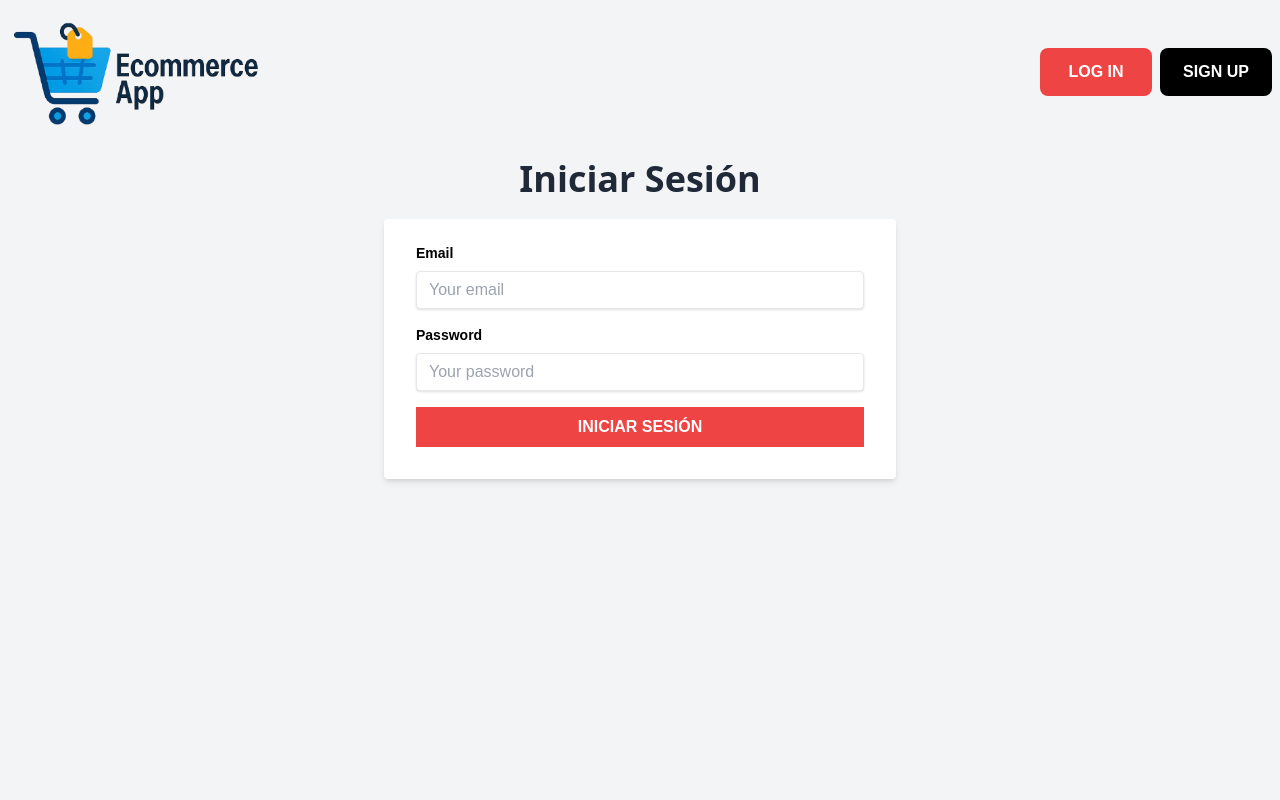
Scenario: <NuevoProducto/> Pruebas para creacion de nuevo producto › <NuevoProducto/> Verificar formulario de nuevoProducto
Type "correo@correo.com" into the field with test id "login-email" at x=640, y=290, box [416, 271, 864, 309]
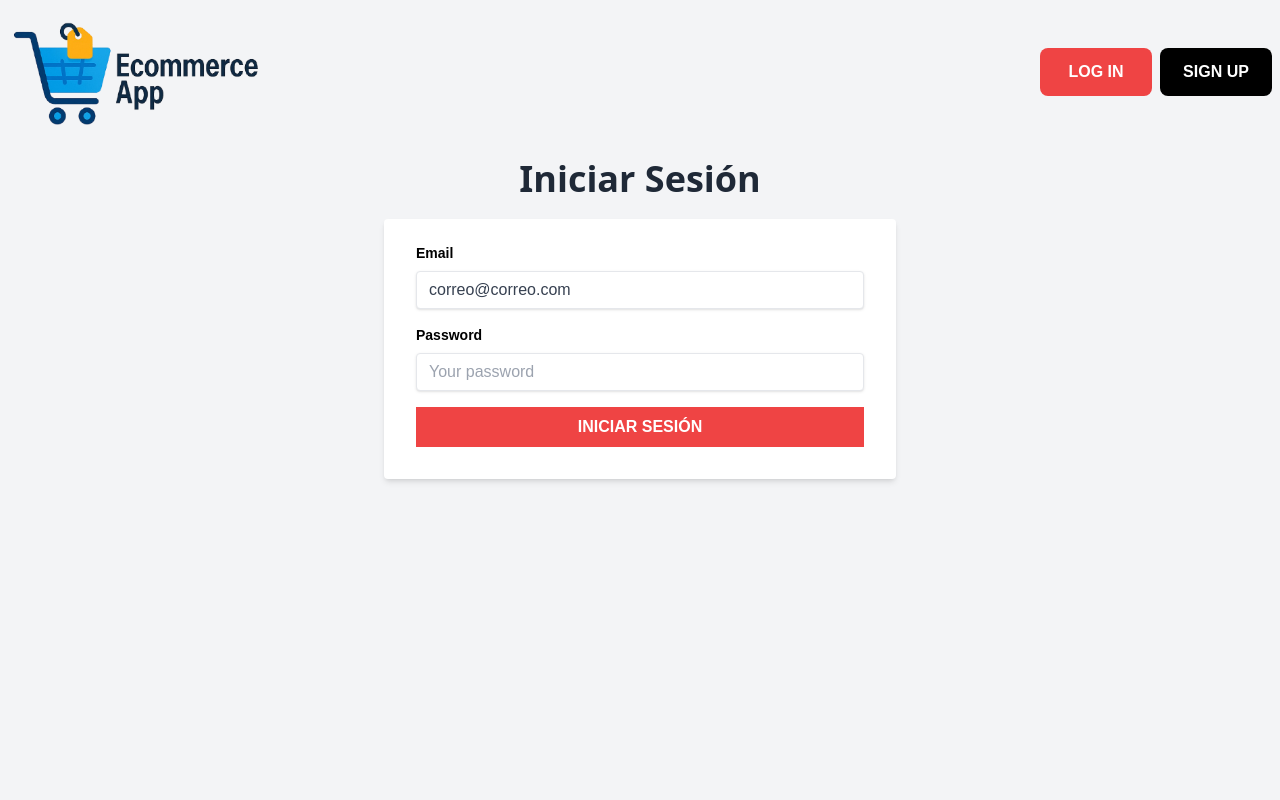
Type "123456" into the password field with test id "login-password" at x=640, y=372, box [416, 353, 864, 391]
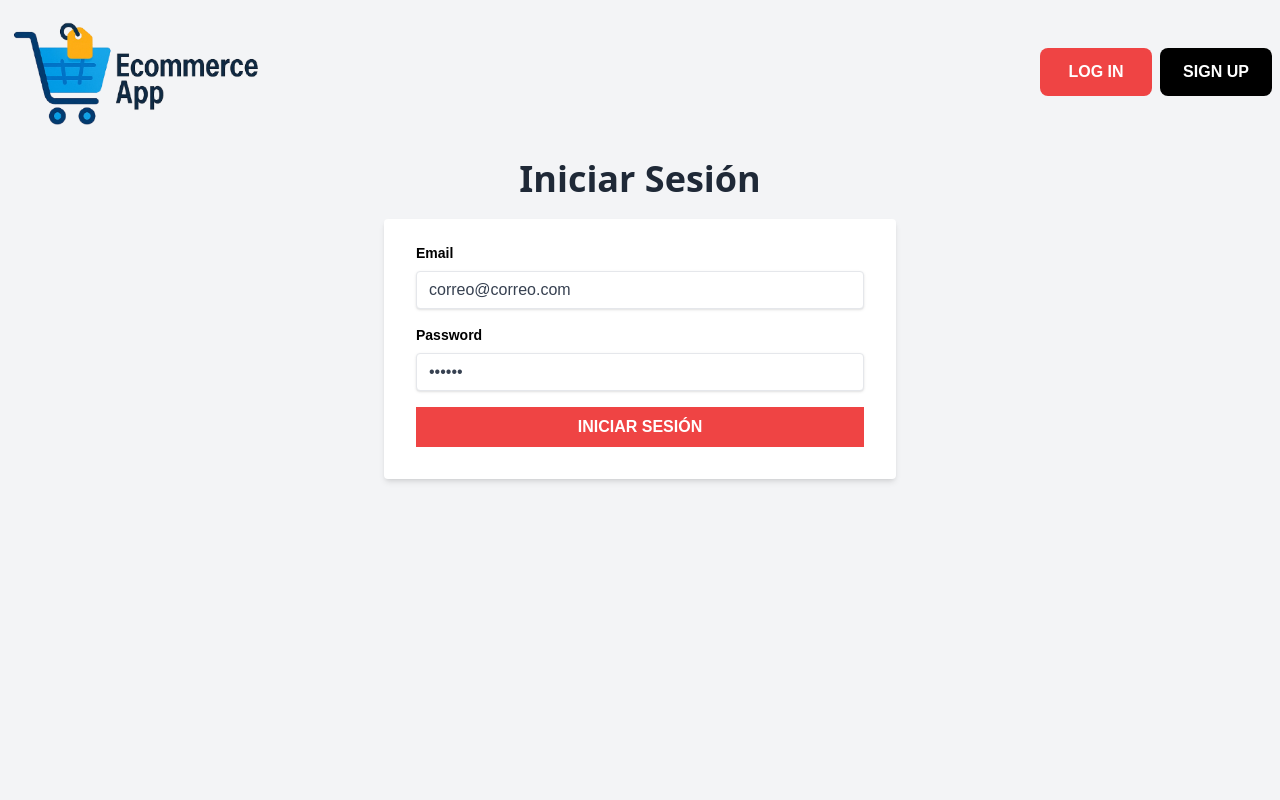
Click the button with test id "login-submit" at x=640, y=427, box [416, 407, 864, 447]
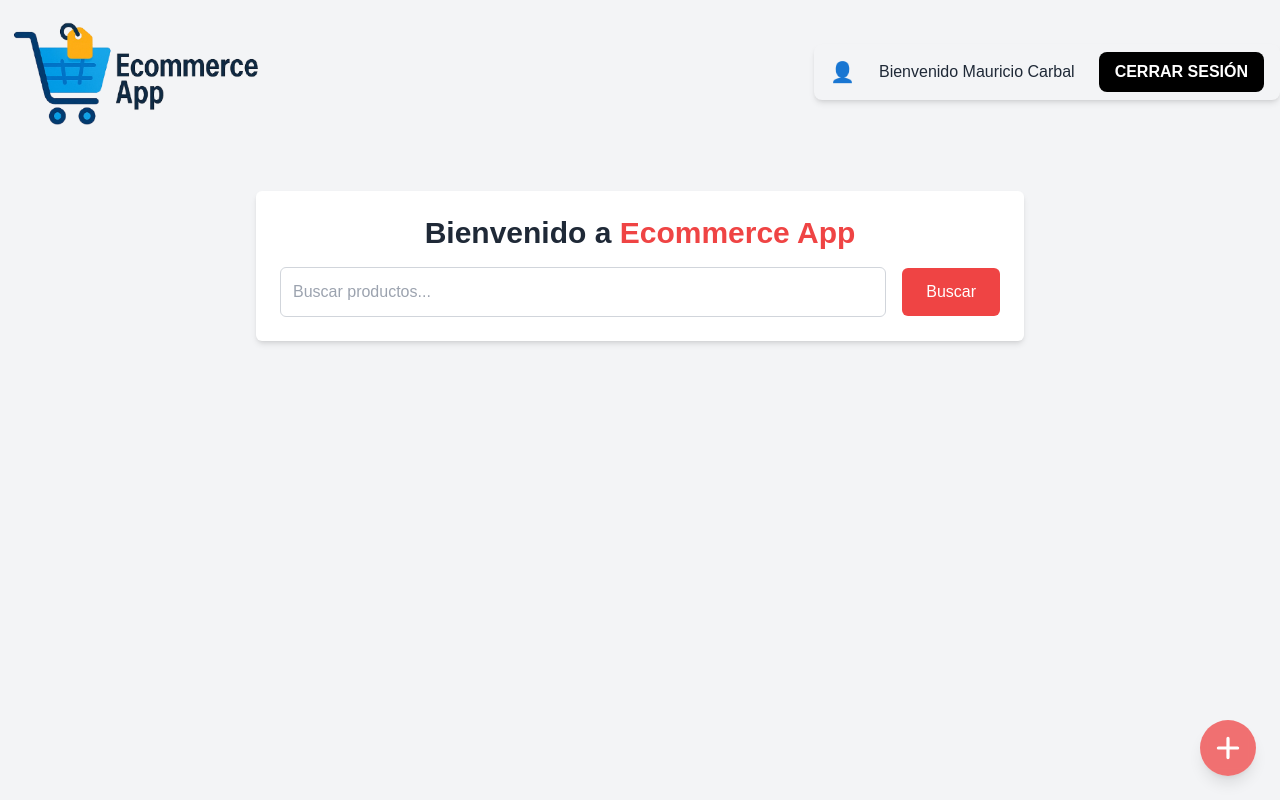
Result: the element with test id "newProduct-button" is shown
Click the element with test id "newProduct-button" at x=1228, y=748, box [1200, 720, 1256, 776]
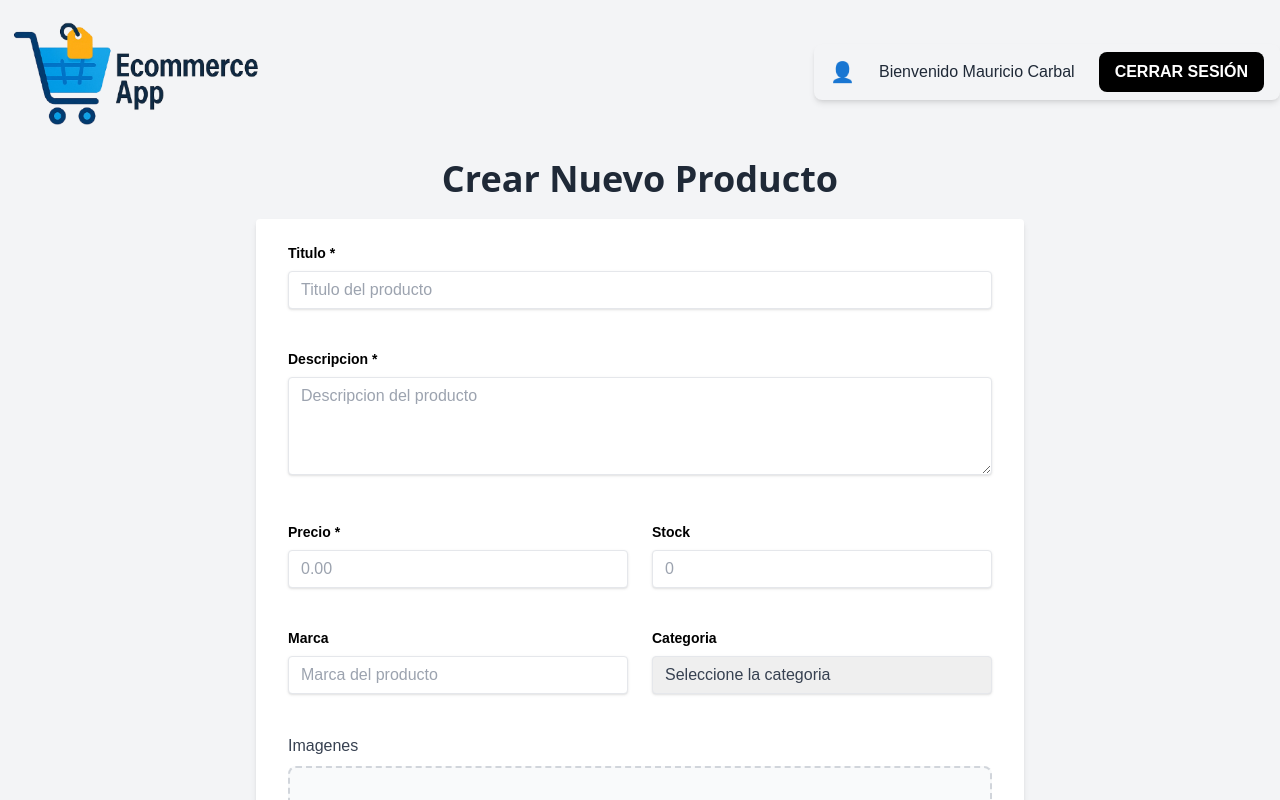
Result: the heading with test id "nuevoProducto-titulo-form" reads "Crear Nuevo Producto" at [256, 159, 1024, 199]
Result: the form with test id "nuevoProducto-form" is shown at [256, 219, 1024, 799]
Result: the field with test id "nuevoProducto-titulo" is shown at [288, 271, 992, 309]
